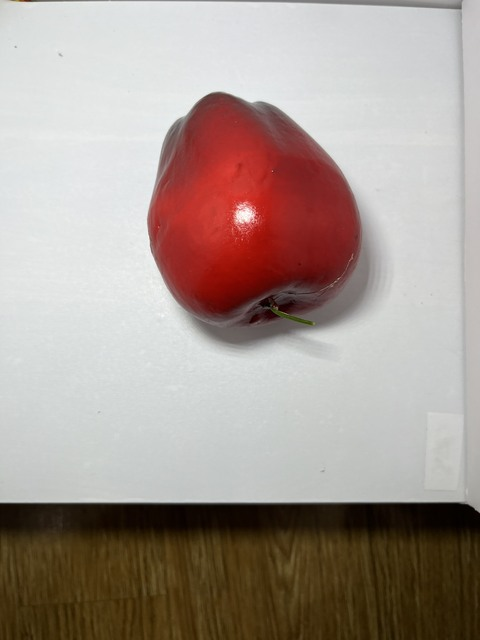Tao: (140, 93, 362, 343)
